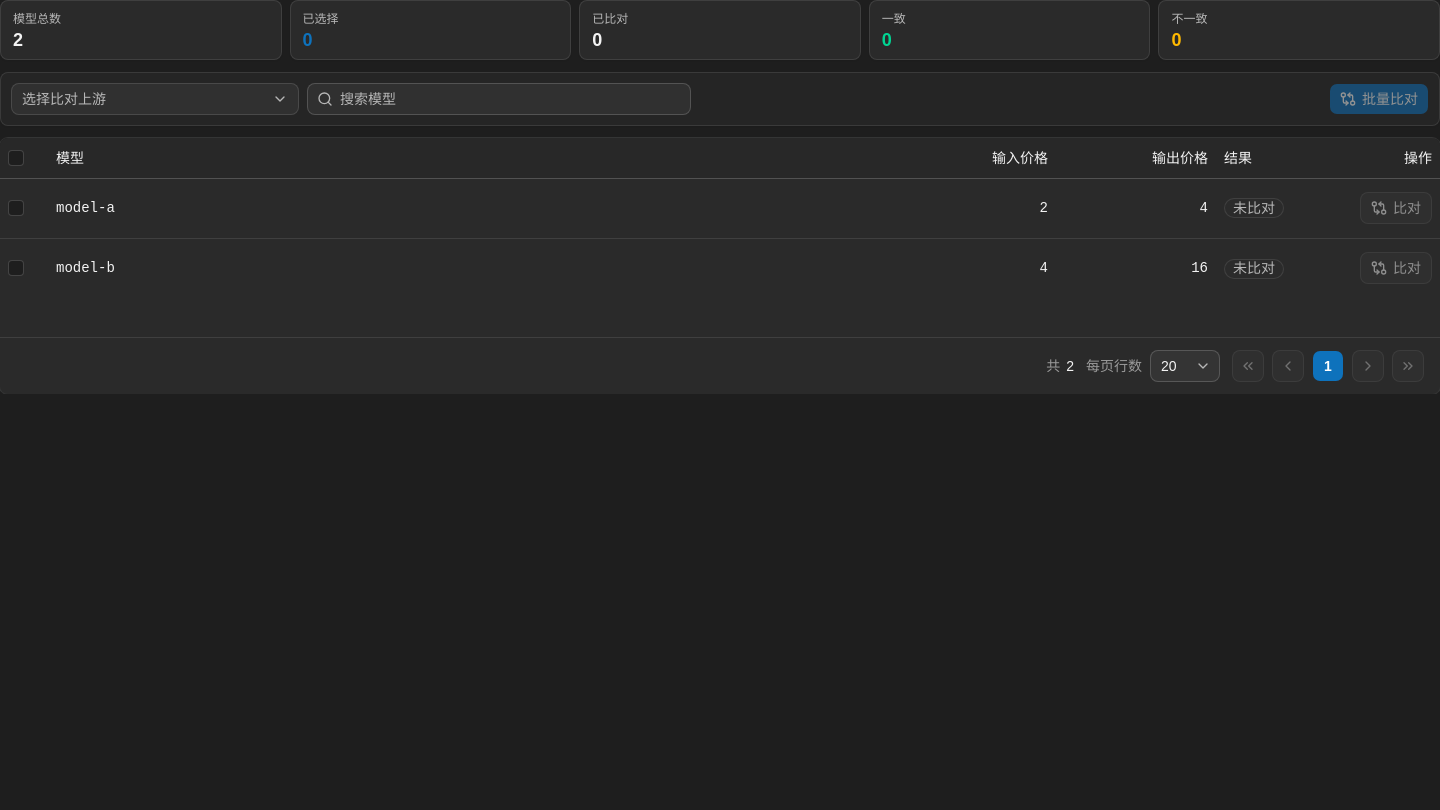
Test case: New API 价格比对 › 选定上游后可以对单个模型发起比对
Click the dropdown labelled "比对上游": (64, 99) [11,83,299,115]
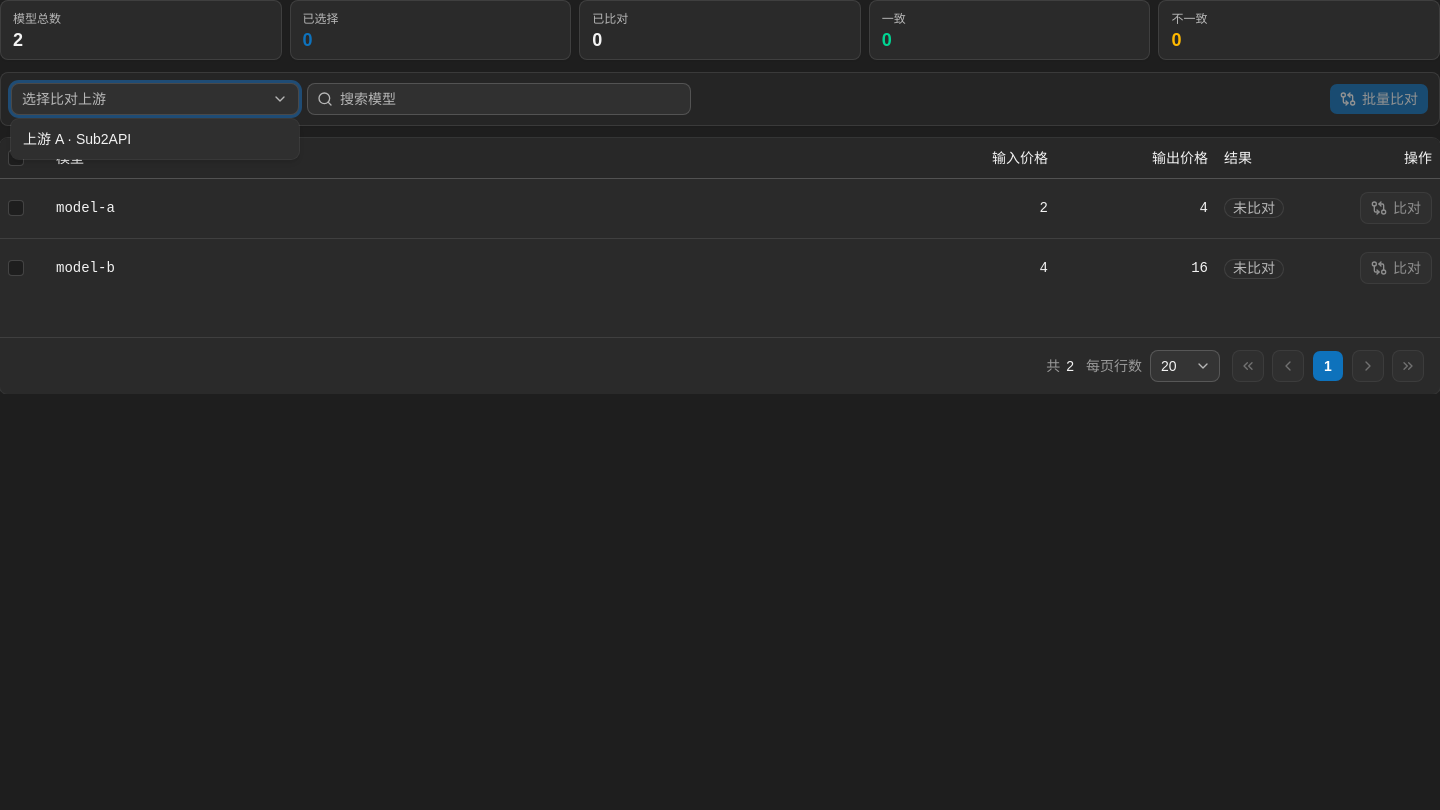
Click the option "上游 A · Sub2API": (77, 139) [15,123,295,155]
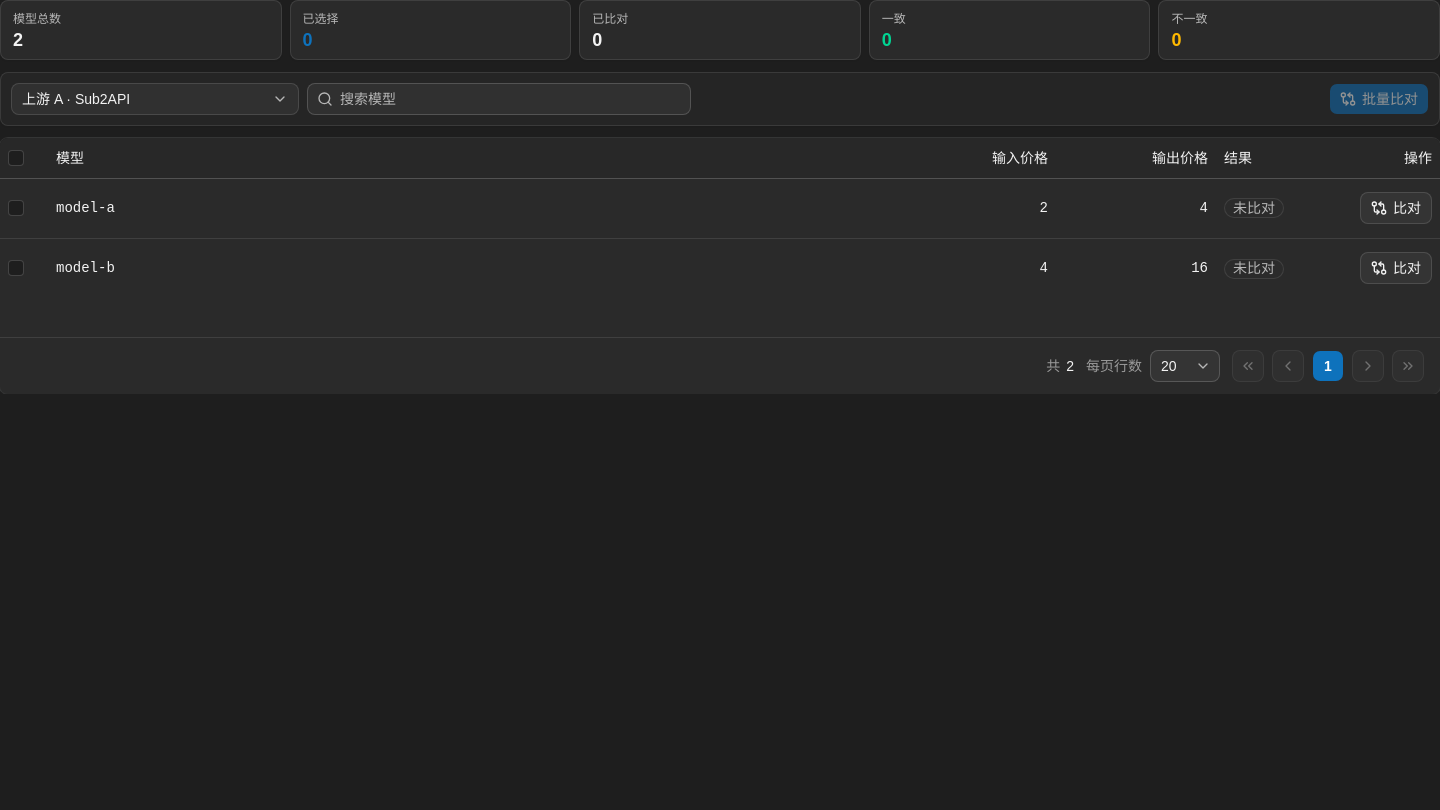
Click the button with aria-label "比对 model-b": (1396, 268) [1360,252,1432,284]
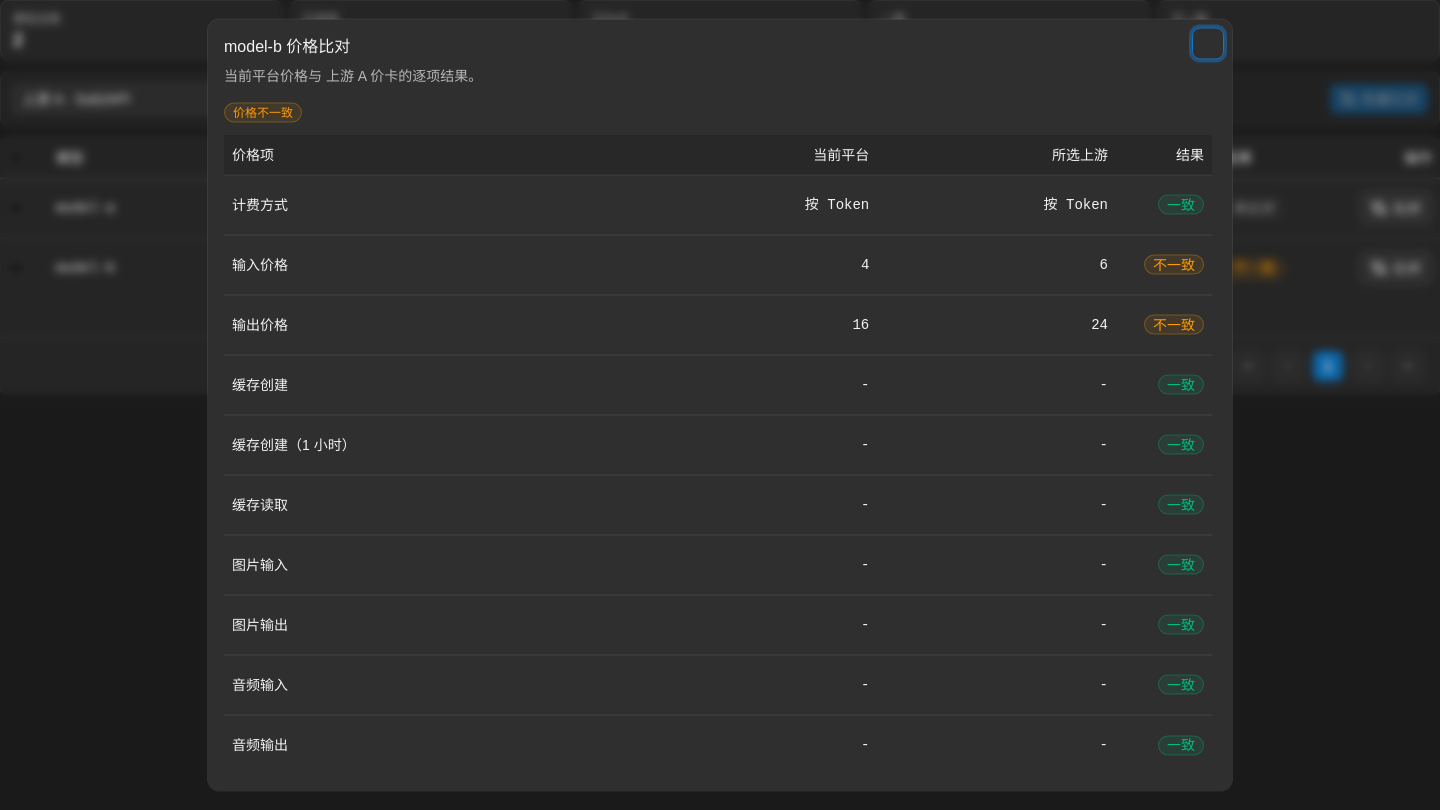
Check: the dialog "model-b 价格比对" is shown
Check: the text "价格不一致" is shown, box [233,104,293,122]
Check: the text "当前平台价格与 上游 A 价卡的逐项结果。" is shown, box [224,68,482,84]
